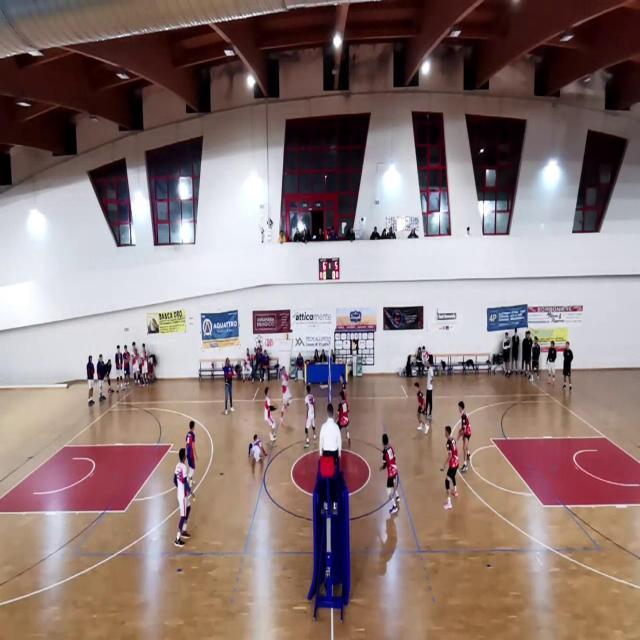volleyball: (284, 334, 290, 340)
